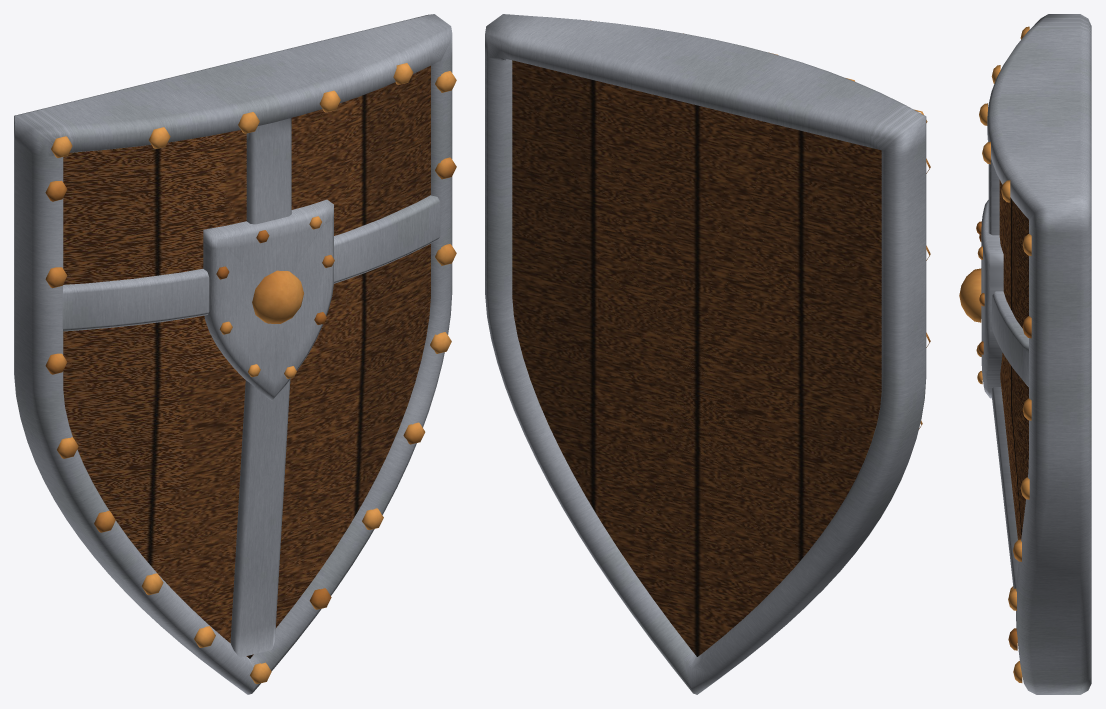
Rendered from escudo.glb.
3 renders of one model, left to right at view 1: azimuth 30°, elevation 25°; view 2: azimuth 150°, elevation 25°; view 3: azimuth 270°, elevation 25°, orthographic. The views are drawn at different scales.
Visible parts, largest first — view 1: Escudo_Madera, Escudo_Acero, Escudo_Bronce; view 2: Escudo_Madera, Escudo_Acero; view 3: Escudo_Acero, Escudo_Madera, Escudo_Bronce.
Part boxes in pixels (x1,y1,x2,y2): Escudo_Madera: (63,65,430,658); Escudo_Acero: (14,14,452,694); Escudo_Bronce: (45,63,456,683); Escudo_Madera: (512,60,881,656); Escudo_Acero: (485,14,926,694); Escudo_Acero: (981,14,1091,694); Escudo_Madera: (999,180,1028,539); Escudo_Bronce: (959,26,1031,682).
Size of the model in its own units: 3.05 by 4.25 by 0.8745.
3 materials, 3 textured.
